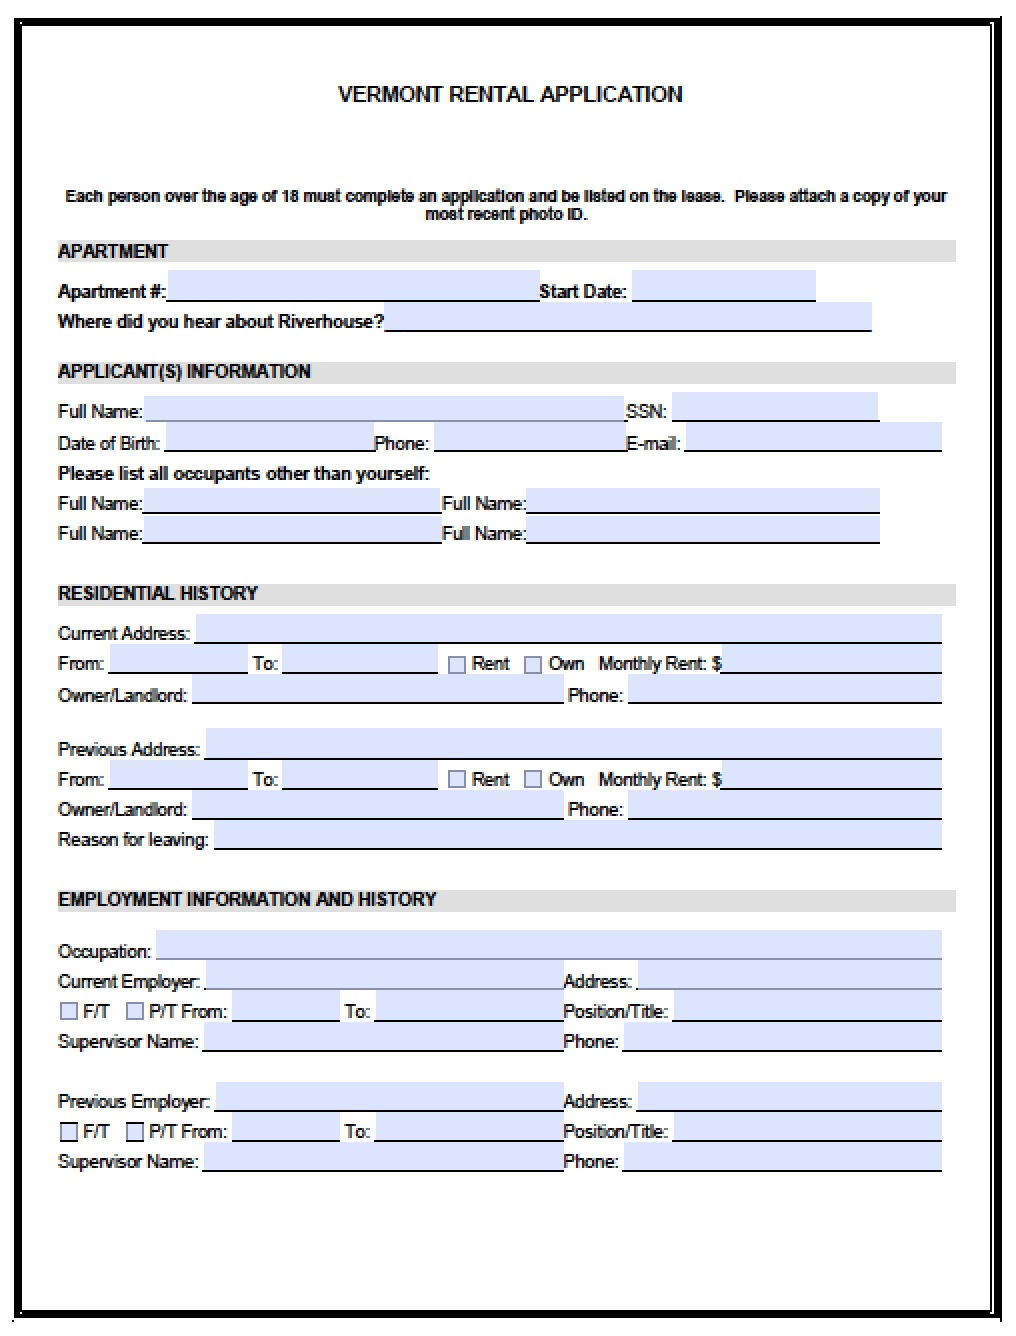checkbox: (54, 998, 82, 1025), (55, 1119, 82, 1144), (120, 1120, 147, 1144), (520, 653, 545, 678), (521, 768, 547, 792), (444, 654, 470, 677), (123, 1001, 147, 1023), (446, 768, 469, 792)
textline: (206, 726, 948, 765), (150, 927, 951, 963), (194, 613, 949, 650), (210, 826, 947, 858), (143, 395, 630, 428), (166, 269, 541, 309), (382, 307, 878, 336), (201, 1148, 566, 1182), (524, 520, 882, 551), (624, 797, 948, 831), (525, 489, 882, 520), (618, 1028, 949, 1061), (189, 796, 568, 825), (201, 1028, 566, 1057), (624, 674, 944, 707), (637, 1082, 947, 1116), (201, 965, 563, 992), (634, 965, 949, 995), (143, 489, 441, 520), (144, 520, 444, 550), (212, 1091, 562, 1115), (682, 430, 944, 461), (618, 1154, 947, 1177), (160, 425, 379, 459), (630, 270, 817, 309), (670, 1120, 944, 1147), (719, 764, 948, 796), (670, 393, 880, 427), (670, 1001, 944, 1025), (430, 427, 625, 460), (104, 756, 248, 797), (369, 1119, 566, 1149), (370, 997, 563, 1027), (720, 651, 946, 677), (277, 646, 440, 679), (277, 765, 441, 795), (106, 645, 249, 678), (227, 996, 347, 1027), (226, 1120, 344, 1147)
